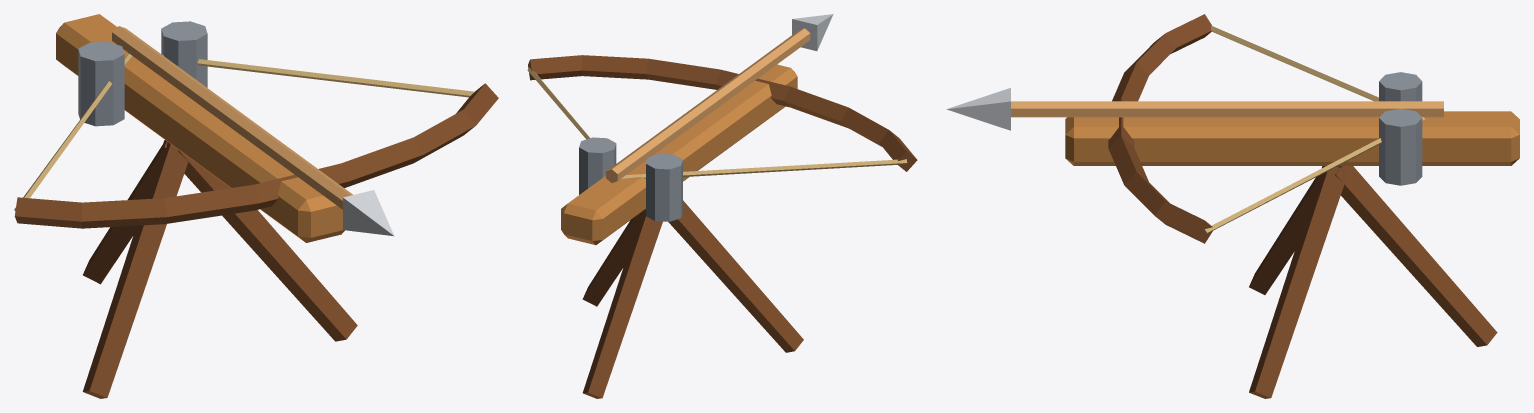
The model's file is Ballista.fbx.
3 views of the same model, side by side, from view 1: azimuth 30°, elevation 25°; view 2: azimuth 150°, elevation 25°; view 3: azimuth 270°, elevation 25° (orthographic). The views are drawn at different scales.
Visible parts, largest first — view 1: Ballista_Bow, Ballista; view 2: Ballista_Bow, Ballista; view 3: Ballista_Bow, Ballista.
Boxes of the visible parts, x1,y1,x2,y2 form: Ballista_Bow: [14, 14, 498, 242]; Ballista: [82, 140, 357, 398]; Ballista_Bow: [527, 14, 917, 245]; Ballista: [582, 200, 803, 398]; Ballista_Bow: [946, 14, 1519, 243]; Ballista: [1249, 166, 1497, 398].
Size of the model in its own units: 4.67 by 2.57 by 5.3.
Materials: 1 (1 with a texture image).
